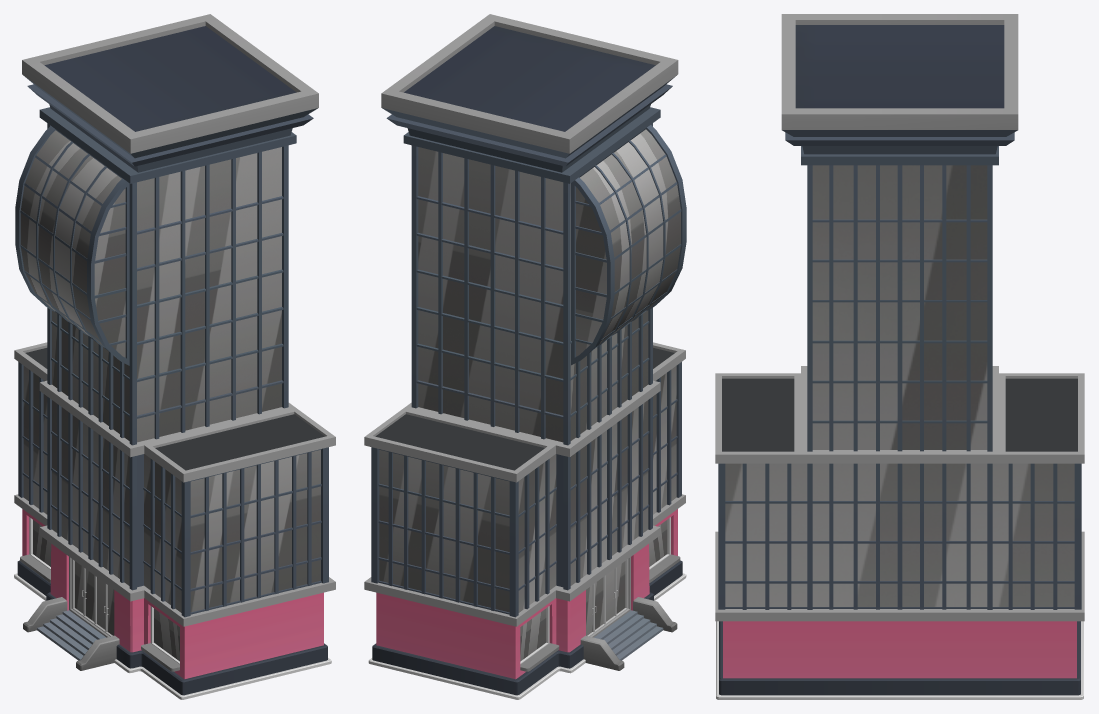
Rendered from Building_15_H.fbx.
The picture shows the model from 3 angles, left to right: view 1: azimuth 30°, elevation 25°; view 2: azimuth 150°, elevation 25°; view 3: azimuth 270°, elevation 25°; orthographic projection. The views are drawn at different scales.
Visible parts, largest first — view 1: Building_15_H; view 2: Building_15_H; view 3: Building_15_H.
Boxes of the visible parts, x1,y1,x2,y2 form: Building_15_H: (14,14,335,699); Building_15_H: (364,14,686,699); Building_15_H: (715,14,1084,699).
Size of the model in its own units: 860 by 2100 by 1183.
